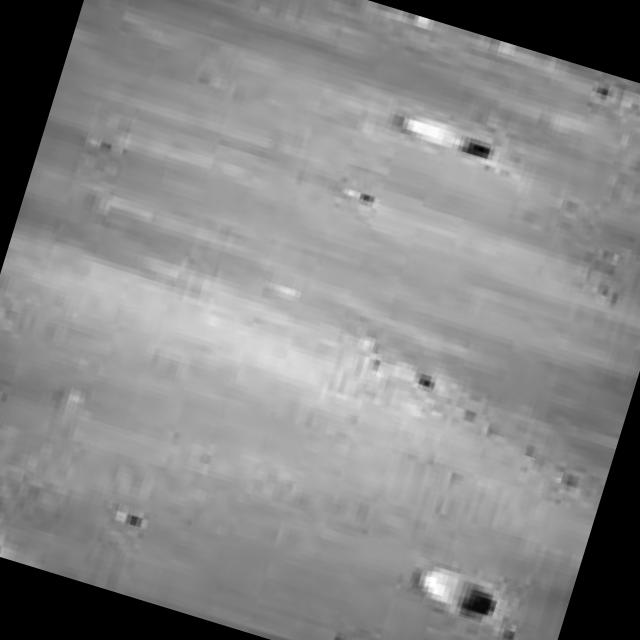crater: (396, 110, 500, 163), (422, 566, 504, 626)
